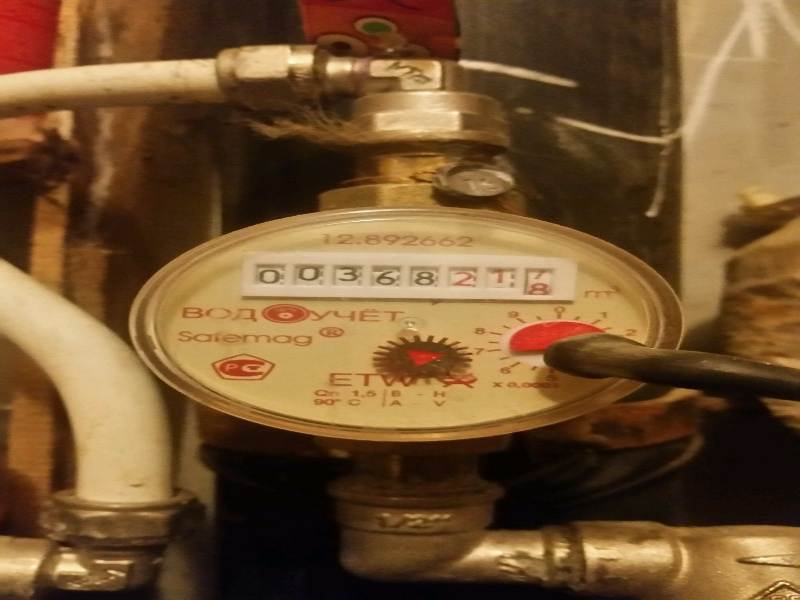meter: (248, 253, 572, 300)
